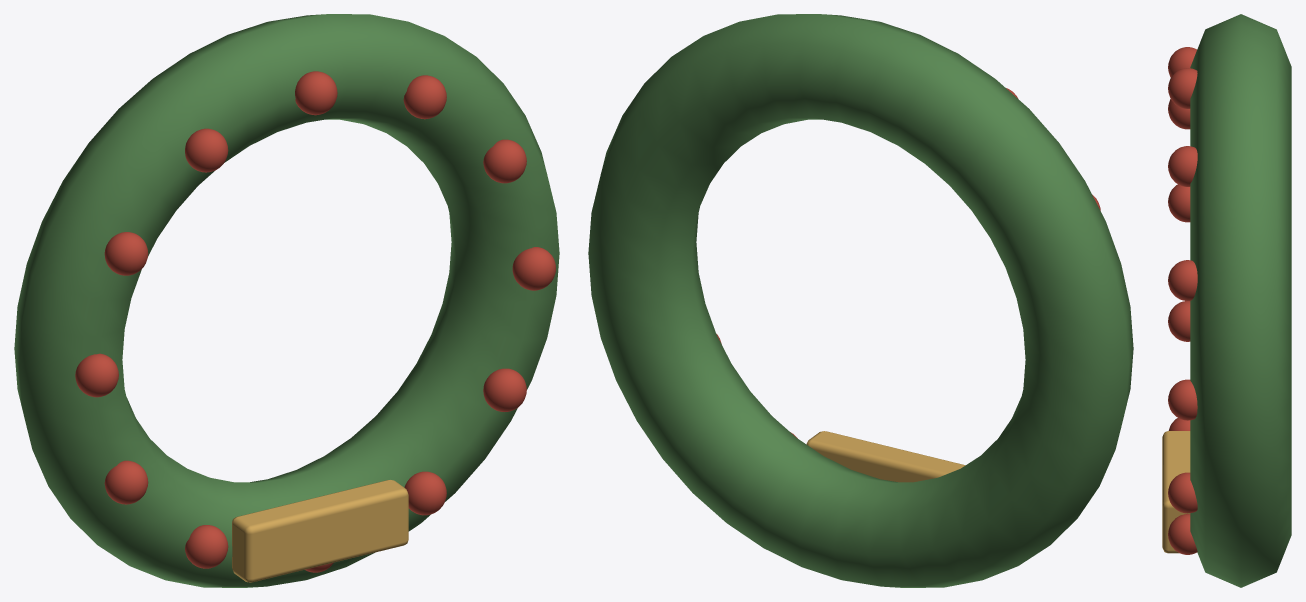
Rendered from wp-couronne-de-porte.glb.
3 views of the same model, side by side, from view 1: azimuth 30°, elevation 25°; view 2: azimuth 150°, elevation 25°; view 3: azimuth 270°, elevation 25° (orthographic). The views are drawn at different scales.
Parts seen in each view (by area): view 1: wp-couronne-de-porte; view 2: wp-couronne-de-porte; view 3: wp-couronne-de-porte.
Part boxes in pixels (bbox=[...]): wp-couronne-de-porte: bbox=[14, 14, 559, 587]; wp-couronne-de-porte: bbox=[588, 14, 1133, 587]; wp-couronne-de-porte: bbox=[1162, 14, 1291, 587].
Bounding box in the file's own units: 0.4 × 0.4 × 0.09.
